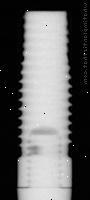Nobel Biocare: (17, 10, 72, 200)
